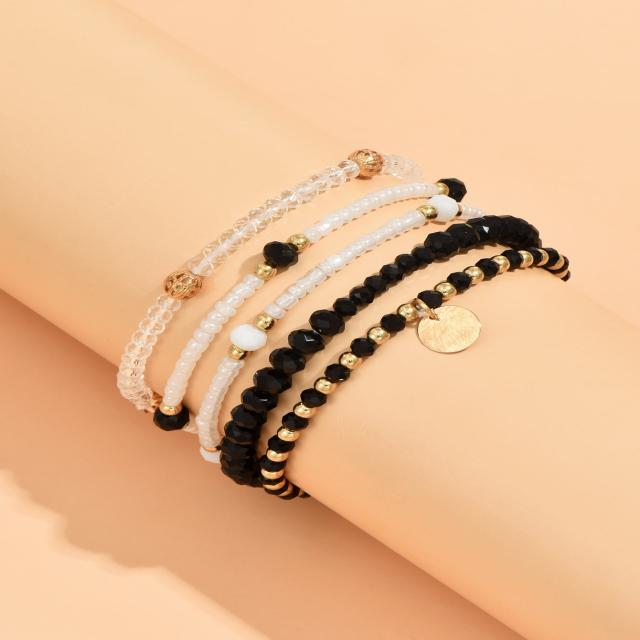bracelet: (96, 96, 584, 545)
